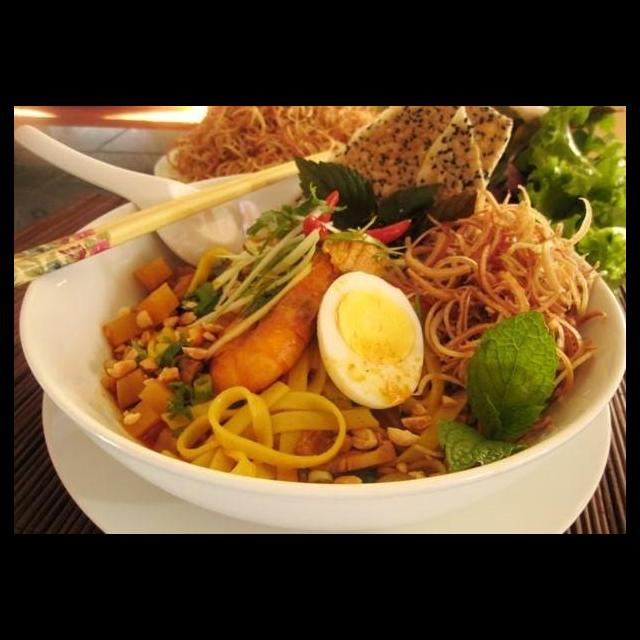banh da: (397, 107, 517, 235), (331, 107, 464, 211)
mi: (151, 335, 385, 494), (388, 339, 475, 483)
tom: (204, 245, 344, 400)
trung: (311, 267, 429, 413)
